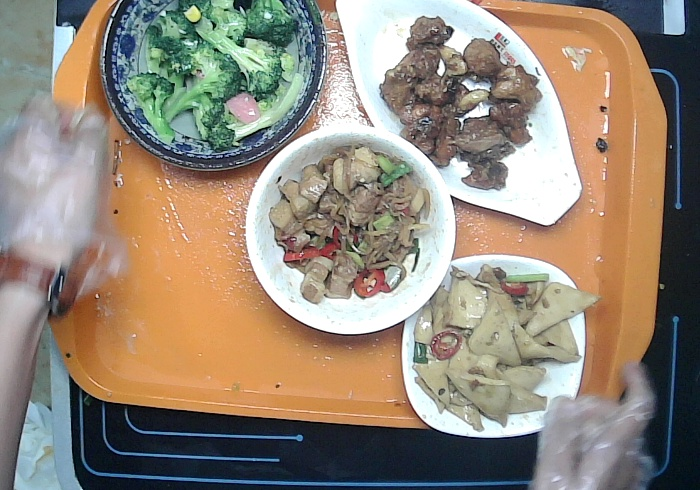ZNLD-Qing_Hua_Wan: (100, 4, 329, 167)
ZNLD-Si_Fang_Wan: (399, 254, 582, 445)
ZNLD-Tang_Wan: (246, 122, 460, 335)
ZNLD-Yu_Pan: (334, 3, 583, 232)
